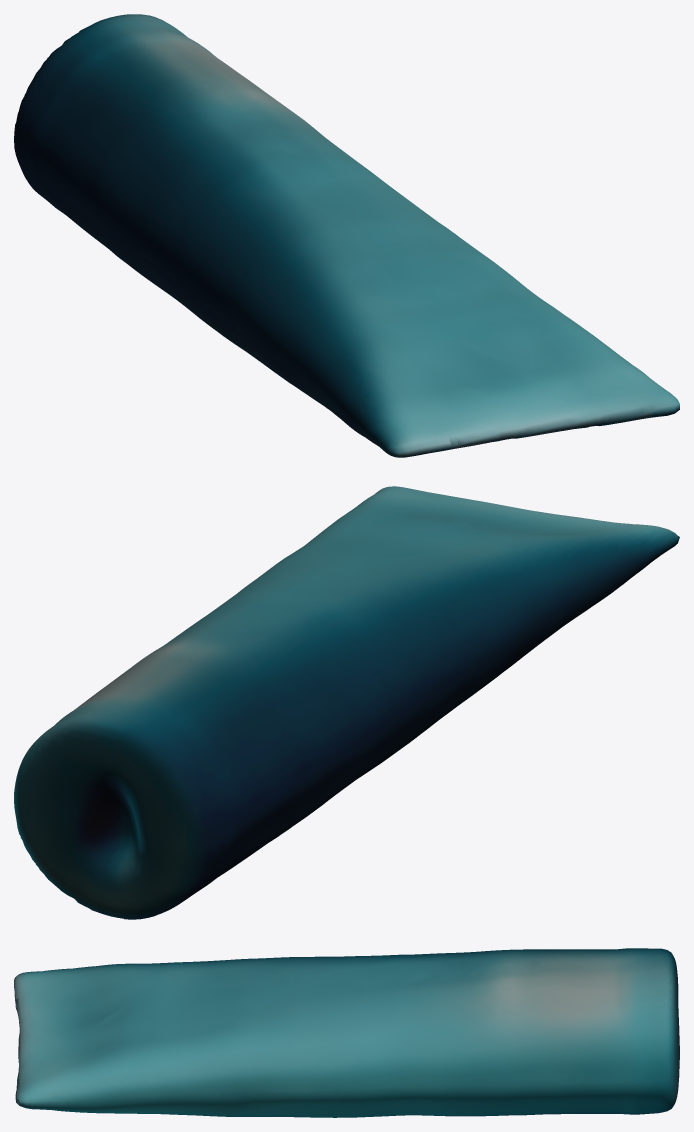
File: oil.glb
The picture shows the model from 3 angles, top to bottom: view 1: azimuth 30°, elevation 25°; view 2: azimuth 150°, elevation 25°; view 3: azimuth 270°, elevation 25°; orthographic projection. The views are drawn at different scales.
Bounding box in the file's own units: 0.3888 × 0.2469 × 0.9979.
